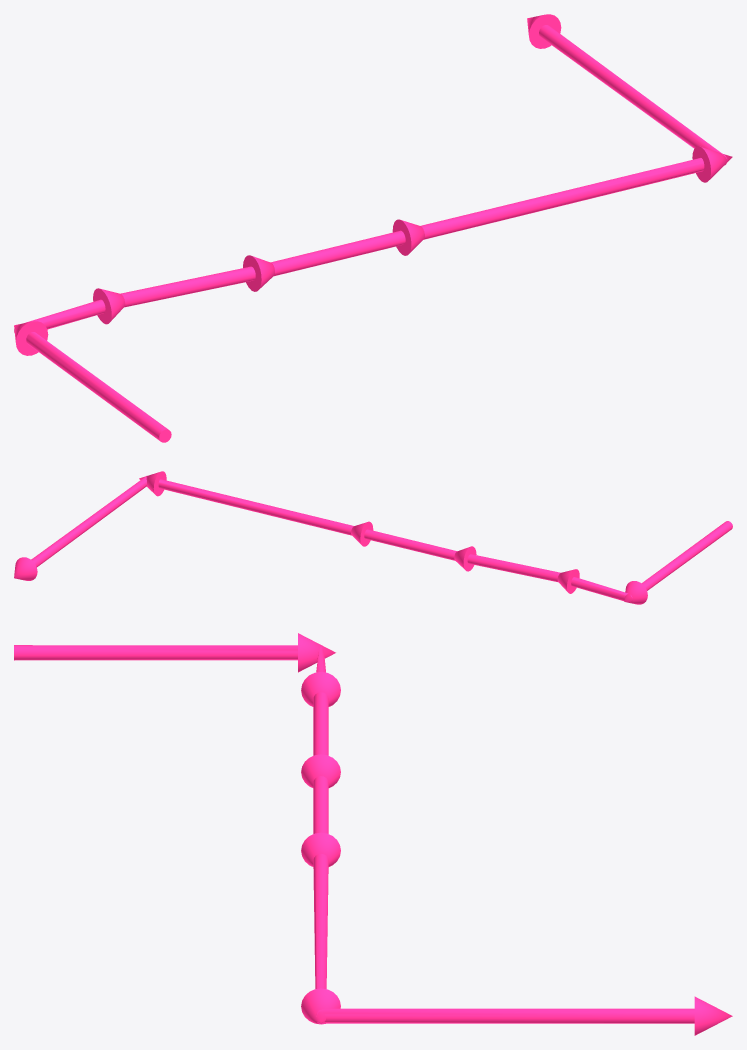
File: gear_assembly_flow.glb
The picture shows the model from 3 angles, top to bottom: view 1: azimuth 30°, elevation 25°; view 2: azimuth 150°, elevation 25°; view 3: azimuth 270°, elevation 25°; orthographic projection. The views are drawn at different scales.
Parts seen in each view (by area): view 1: power; view 2: power; view 3: power.
Boxes of the visible parts, x1,y1,x2,y2 form: power: (14, 14, 732, 442); power: (14, 471, 732, 604); power: (14, 633, 732, 1035).
Bounding box in the file's own units: 0.7032 × 0.0352 × 0.562.
